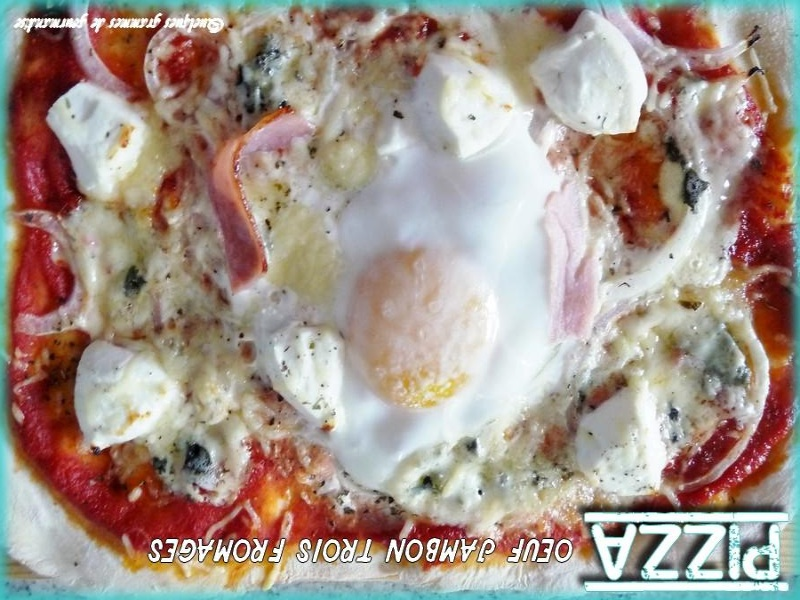oeuf: (350, 232, 526, 426)
